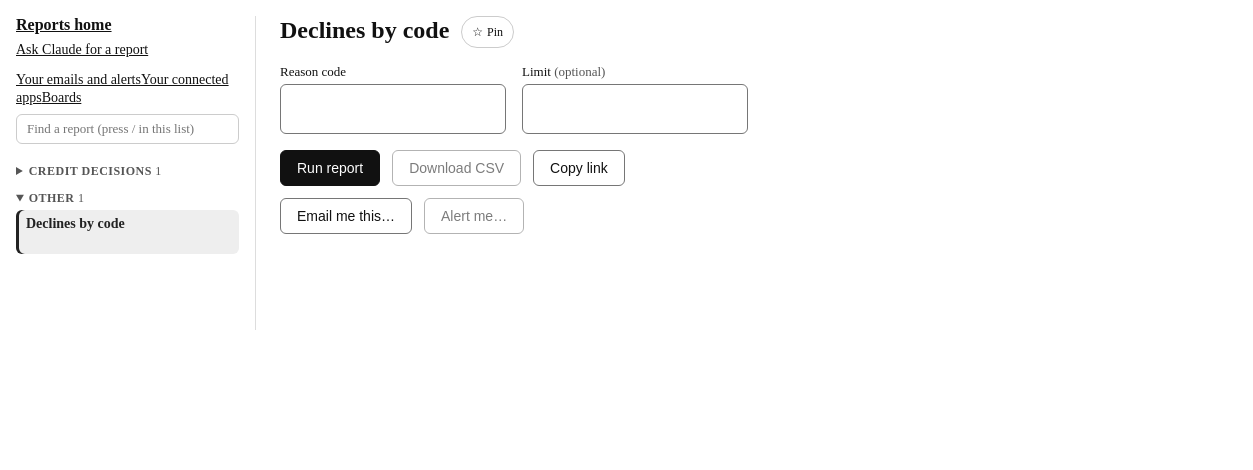
Test case: ReportsView › shows server-side field errors and run failures in the summary
The width and height of the screenshot is (1253, 470).
Type "X" into the field labelled "Reason code".
click(393, 109); type("X")  # box [280, 84, 506, 134]
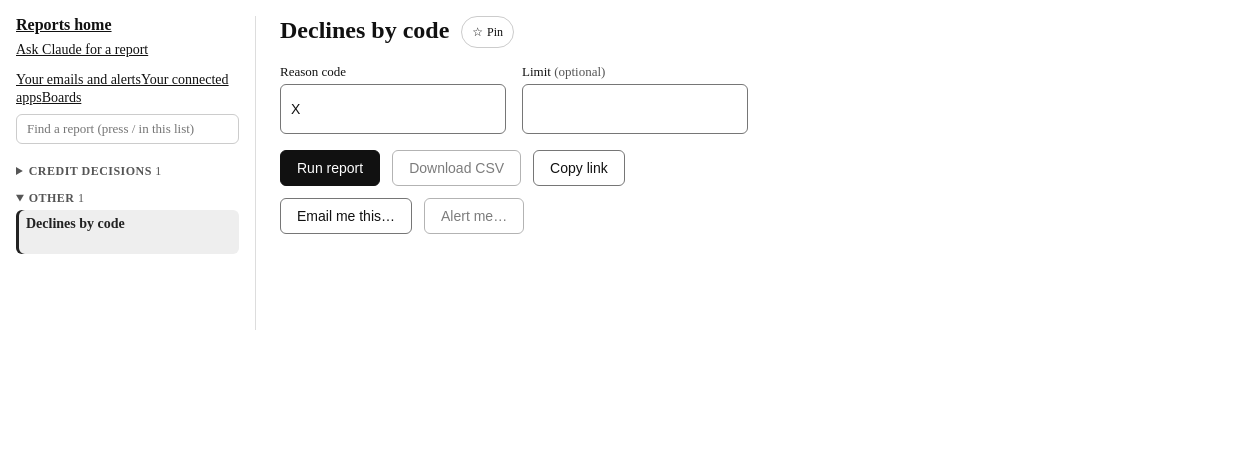
Click the button "Run report".
click(330, 168)  # box [280, 150, 380, 186]
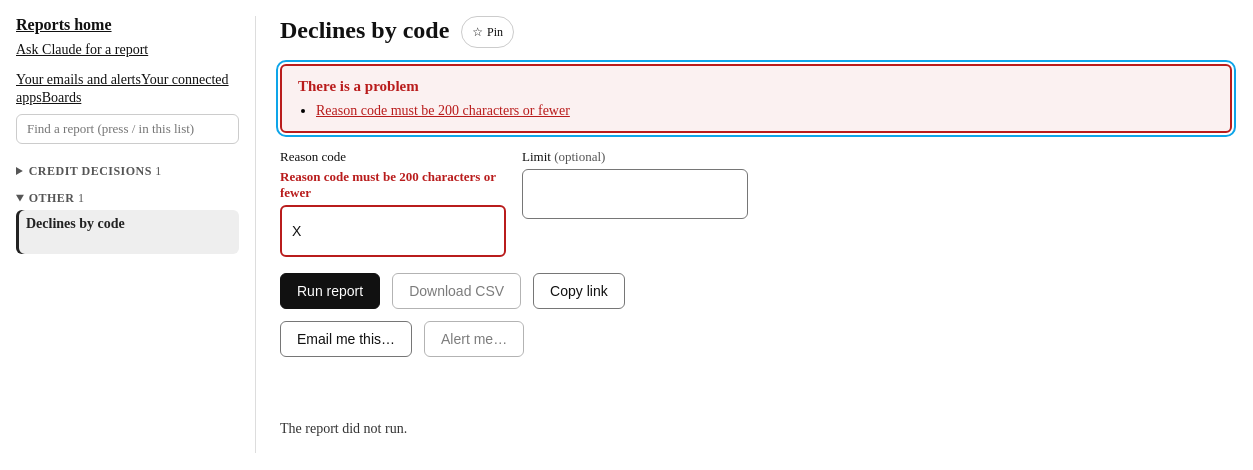
expect the message with test id "report-error-summary" shows "Reason code must be 200 characters or fewer": met, box [316, 103, 570, 118]
Click the button "Run report".
click(330, 291)  # box [280, 273, 380, 309]
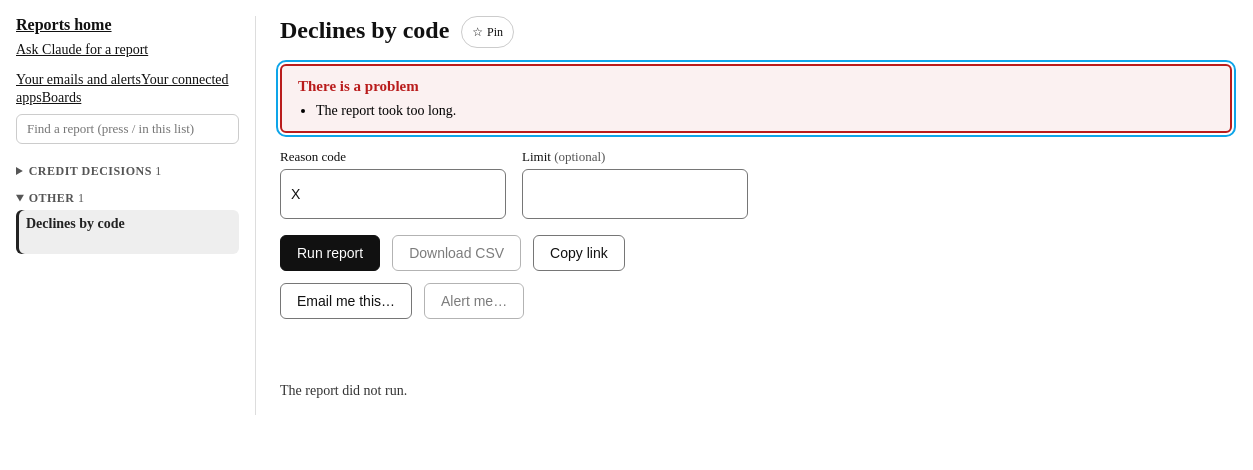
expect the text with test id "report-status" reads "The report did not run.": met, box [280, 383, 407, 398]
expect the message with test id "report-error-summary" shows "The report took too long.": met, box [316, 103, 456, 118]
